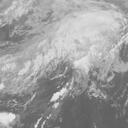cyclone: (42, 28, 111, 84)
